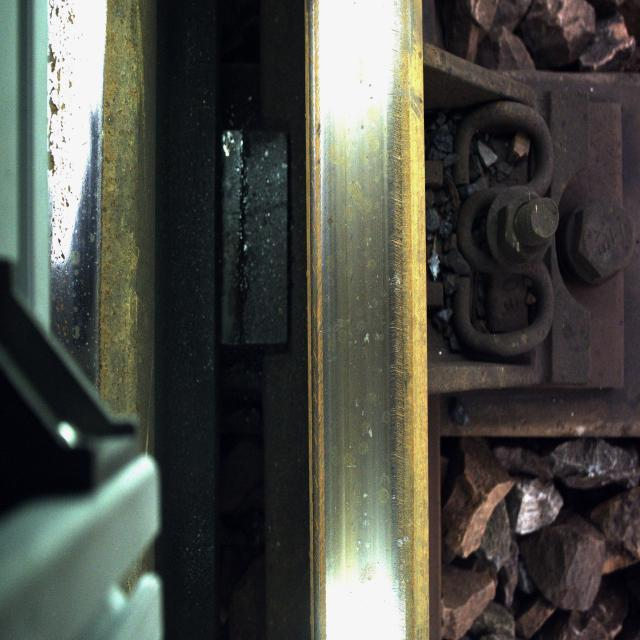scar: (320, 24, 410, 631), (41, 0, 84, 226)
